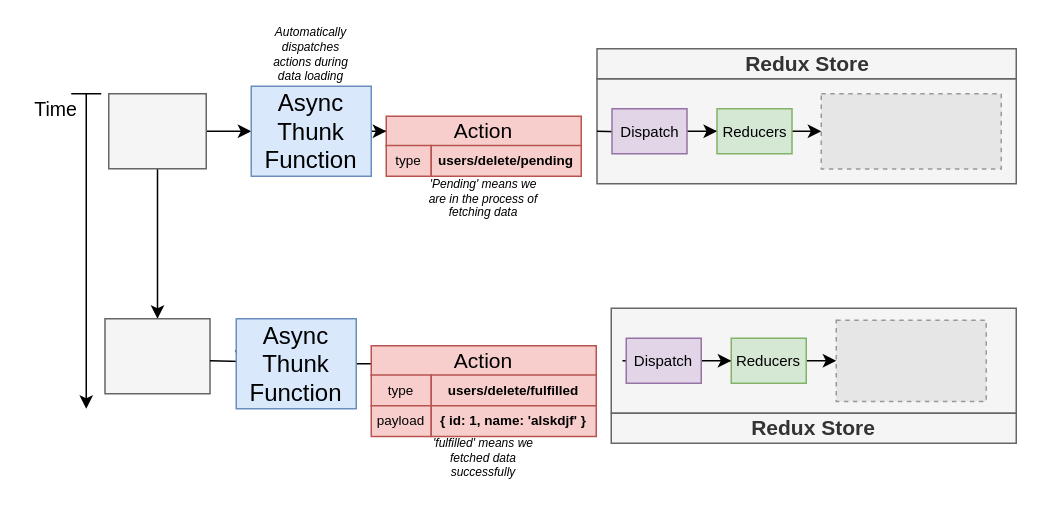
Some shapes in this 1043 by 506 pixel diagram are drawn without their labels. Grey dashed boxes stand in for pictures. Each missing label, with the centre of its shape:
Response! Request success!: pixel 157 355
Start the request: pixel 156 130
